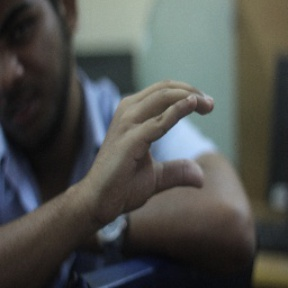C: (108, 79, 222, 207)
